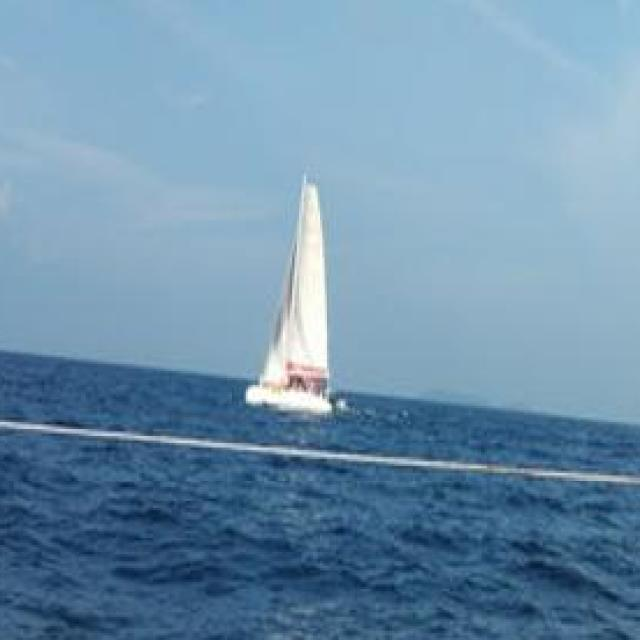sailboat: (222, 159, 364, 409)
